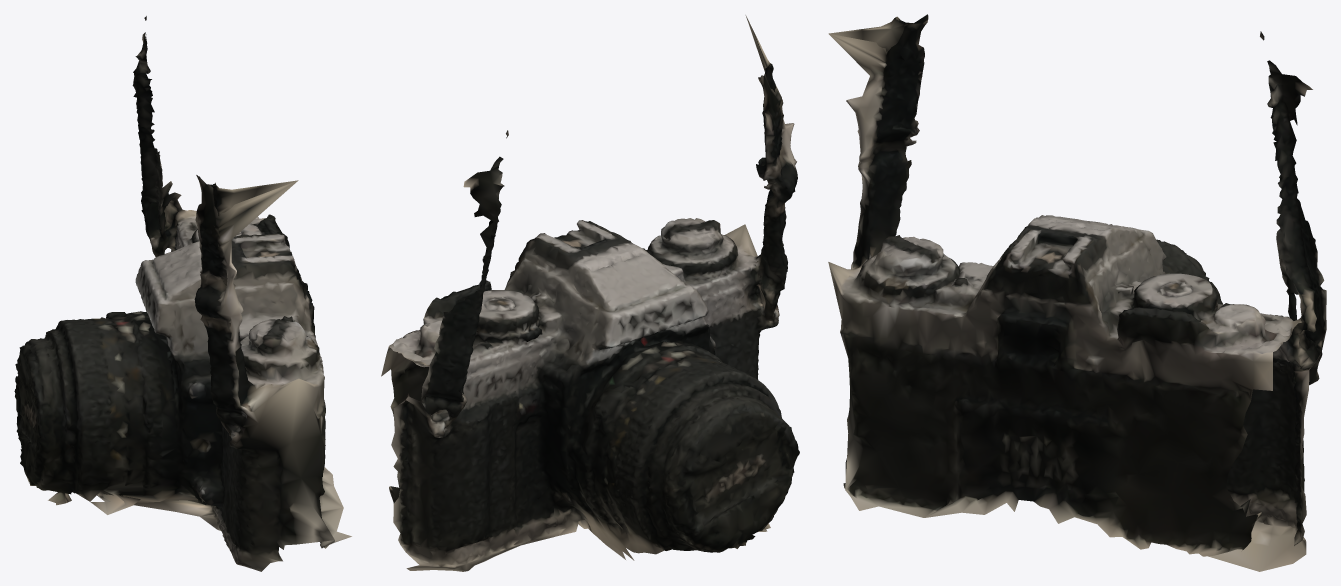
Rendered from cameraEdit.fbx.
The picture shows the model from 3 angles, left to right: view 1: azimuth 30°, elevation 25°; view 2: azimuth 150°, elevation 25°; view 3: azimuth 270°, elevation 25°; orthographic projection. The views are drawn at different scales.
Parts seen in each view (by area): view 1: Summers-Castaneda-COMM169B-Week4-_LOD0; view 2: Summers-Castaneda-COMM169B-Week4-_LOD0; view 3: Summers-Castaneda-COMM169B-Week4-_LOD0.
Part boxes in pixels (x1,y1,x2,y2): Summers-Castaneda-COMM169B-Week4-_LOD0: [14, 16, 351, 571]; Summers-Castaneda-COMM169B-Week4-_LOD0: [381, 15, 799, 571]; Summers-Castaneda-COMM169B-Week4-_LOD0: [828, 14, 1326, 571].
Size of the model in its own units: 4143 by 5557 by 5054.
